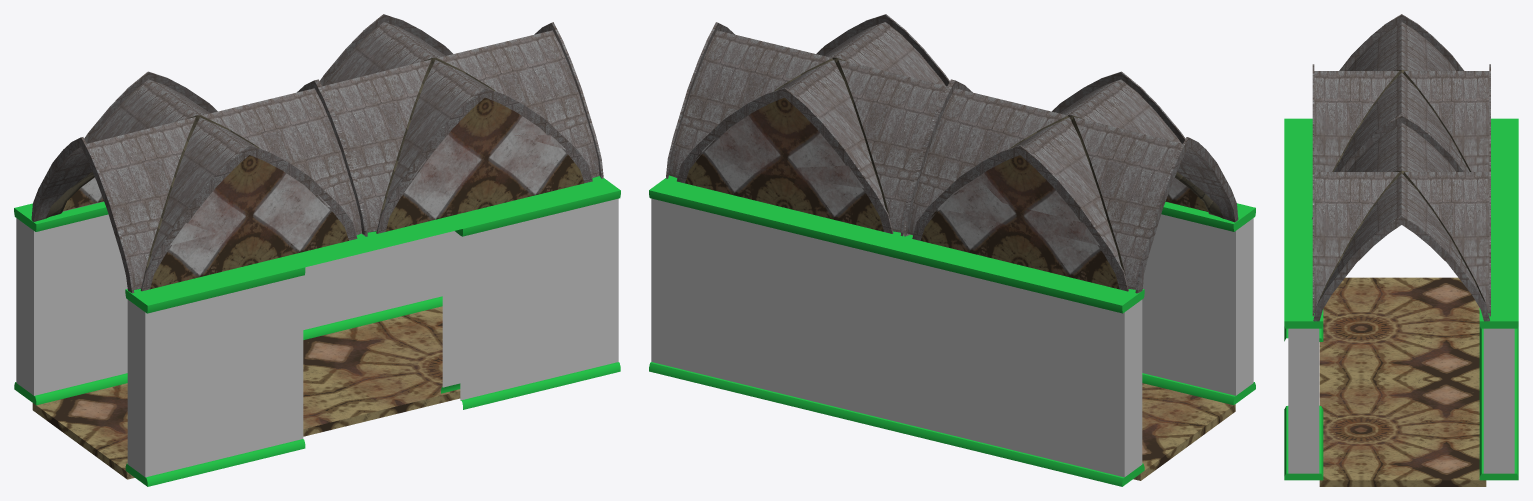
The model's file is Basic Hallway 03B.fbx.
3 views of the same model, side by side, from view 1: azimuth 30°, elevation 25°; view 2: azimuth 150°, elevation 25°; view 3: azimuth 270°, elevation 25° (orthographic). The views are drawn at different scales.
Parts seen in each view (by area): view 1: Plane_001; view 2: Plane_001; view 3: Plane_001.
Part boxes in pixels (left/top/right/bottom): Plane_001: left=14, top=14, right=620, bottom=486; Plane_001: left=649, top=14, right=1255, bottom=486; Plane_001: left=1284, top=14, right=1518, bottom=486.
Bounding box in the file's own units: 1262 × 783 × 615.
